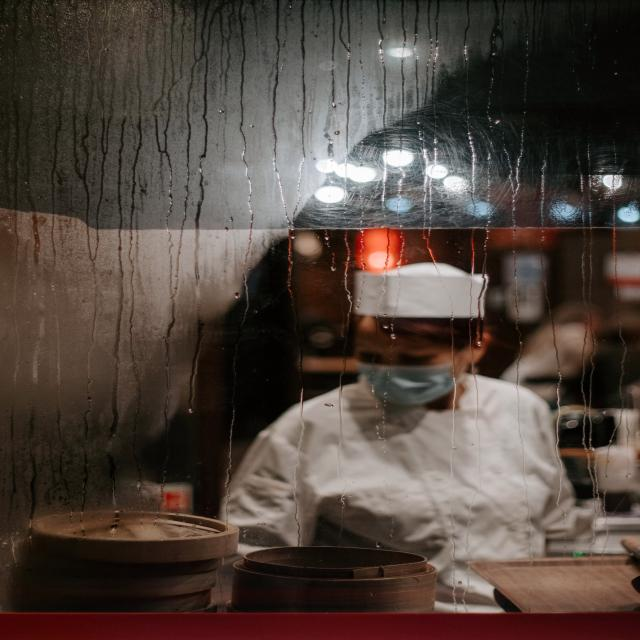adult: (220, 256, 574, 602)
